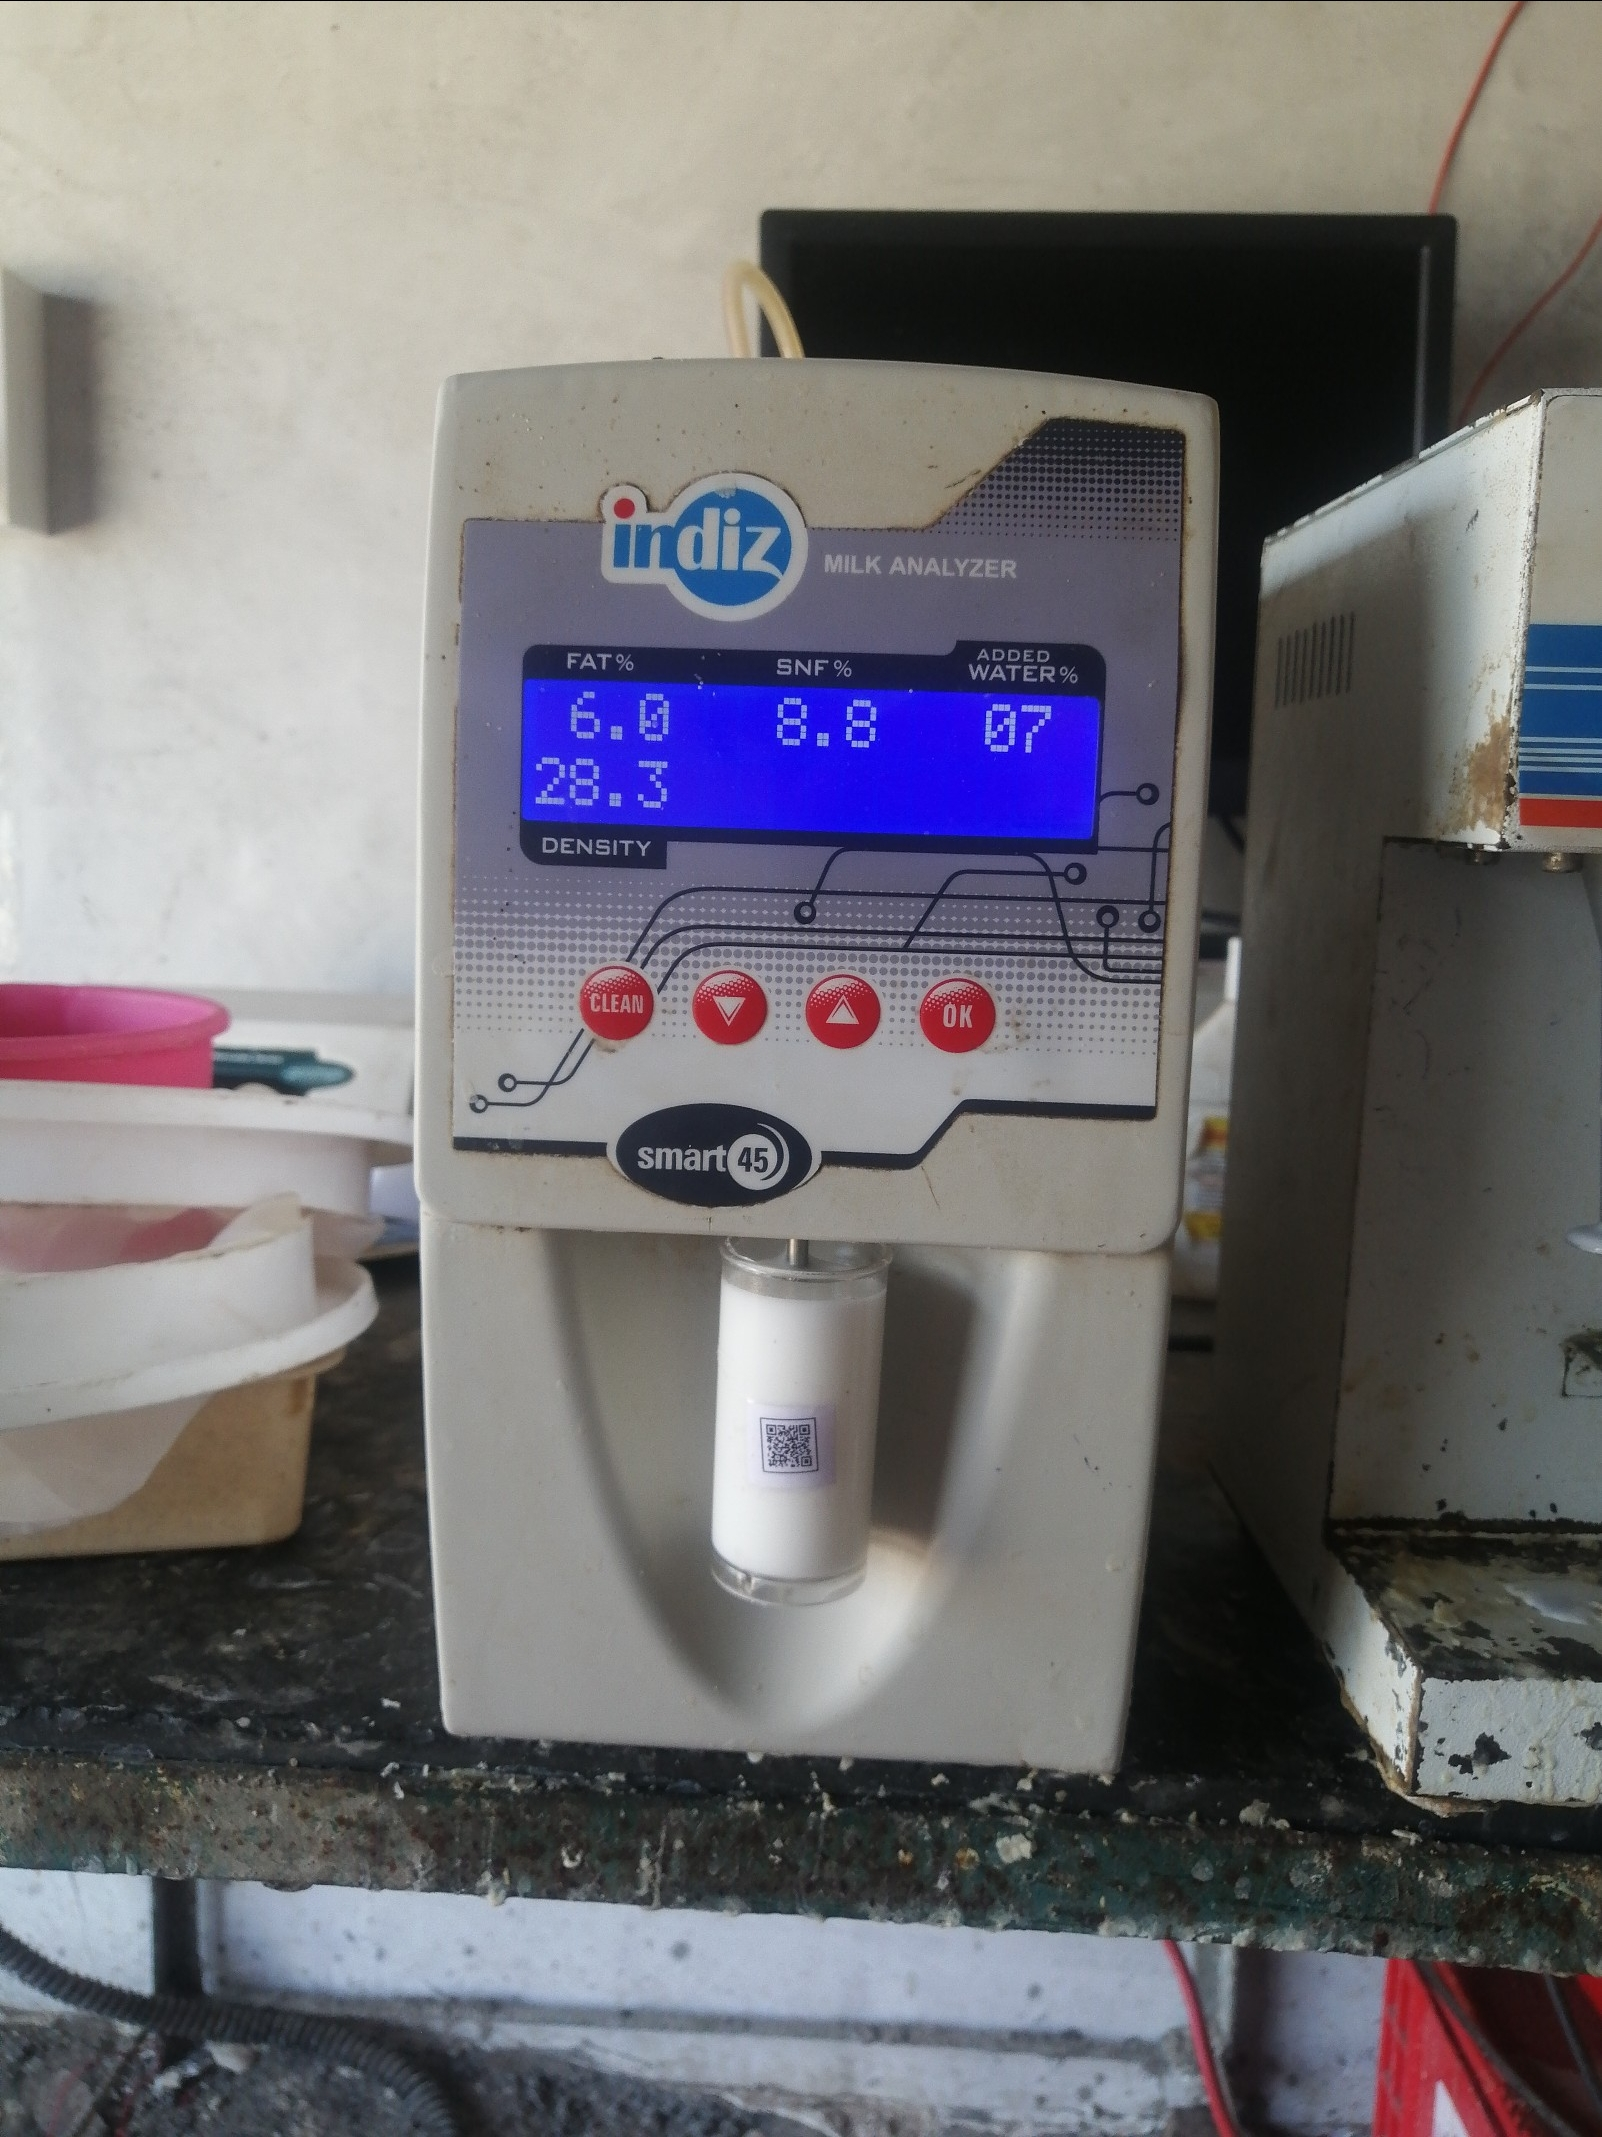lcd: (512, 655, 1112, 865)
qr: (745, 1412, 831, 1482)
